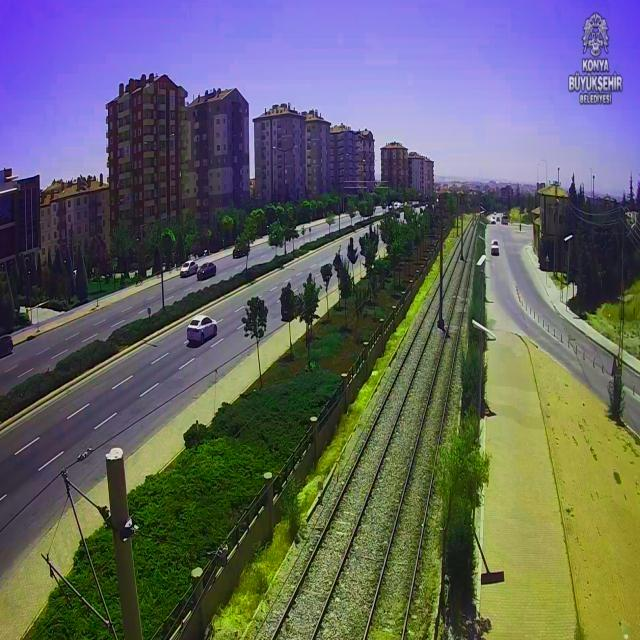Car: (180, 299, 226, 349), (180, 260, 198, 278), (197, 263, 216, 280), (0, 336, 14, 358), (233, 246, 249, 259), (491, 240, 500, 255), (502, 217, 508, 225), (490, 216, 496, 223)
